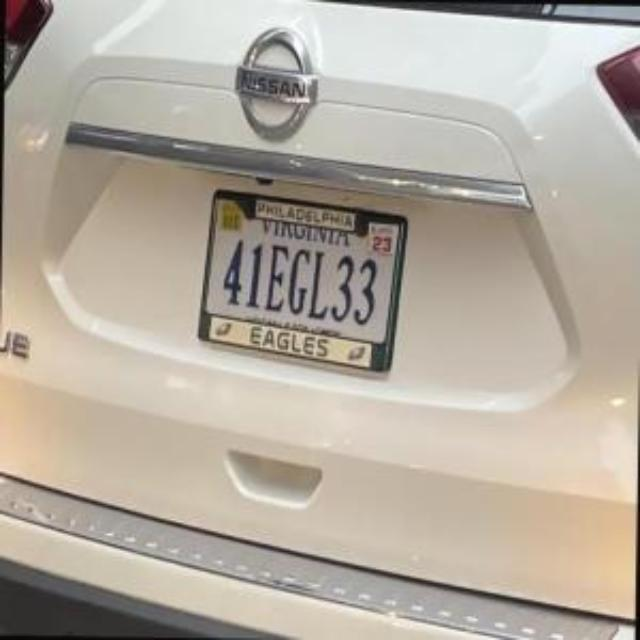License Plate: (195, 189, 409, 373)
